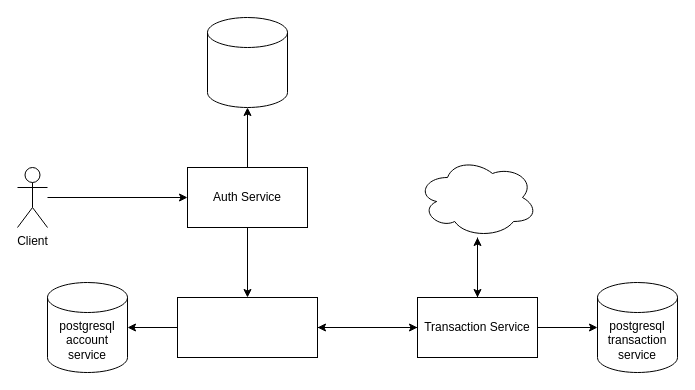
Some shapes in this 695 by 390 pixel diagram are drawn without their labels. The box of each missing label's shape, as (x1, y1, x2, y2) in pixels:
Account Service [account, card, contact]: (176, 296, 318, 358)
postgresql auth service: (206, 16, 288, 108)
Queue: (416, 156, 538, 238)
